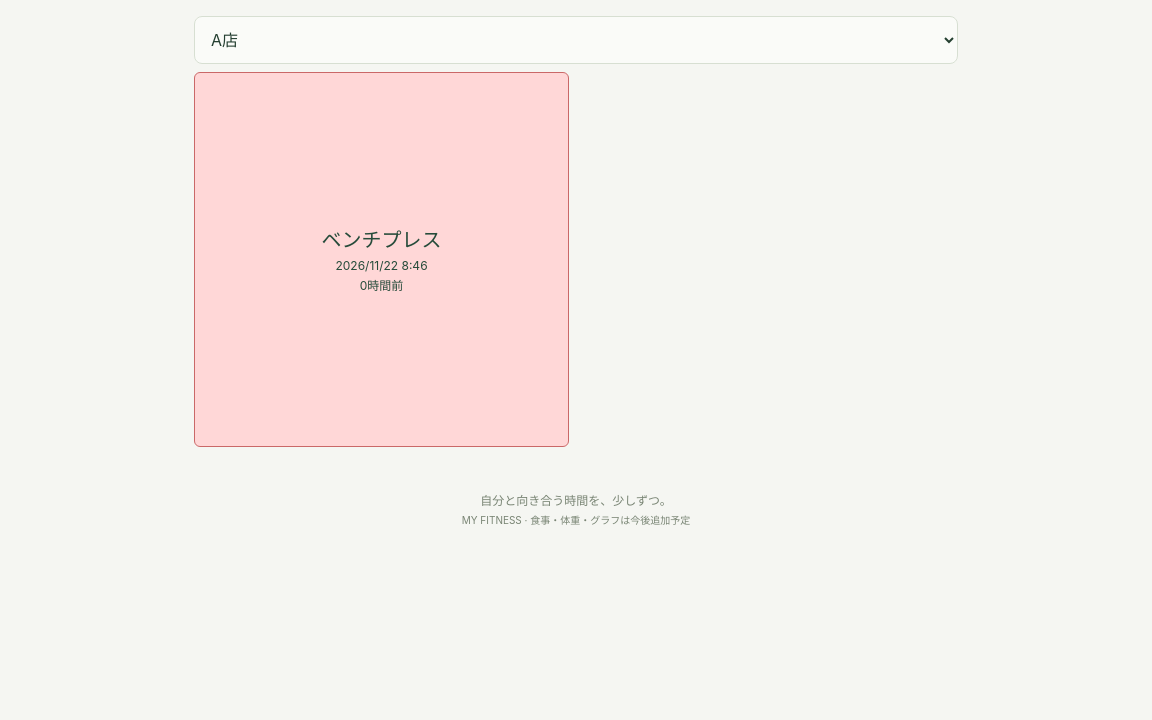
it: 店舗の選択と統合 › 画面で店舗を切り替え、A店・B店の記録を共通IDに保存する
Earlier steps of the test are not shown.
Later steps or results of the test are not shown.
Select "B店" in the dropdown named "店舗を選択" at (576, 40), box [194,16,958,64]
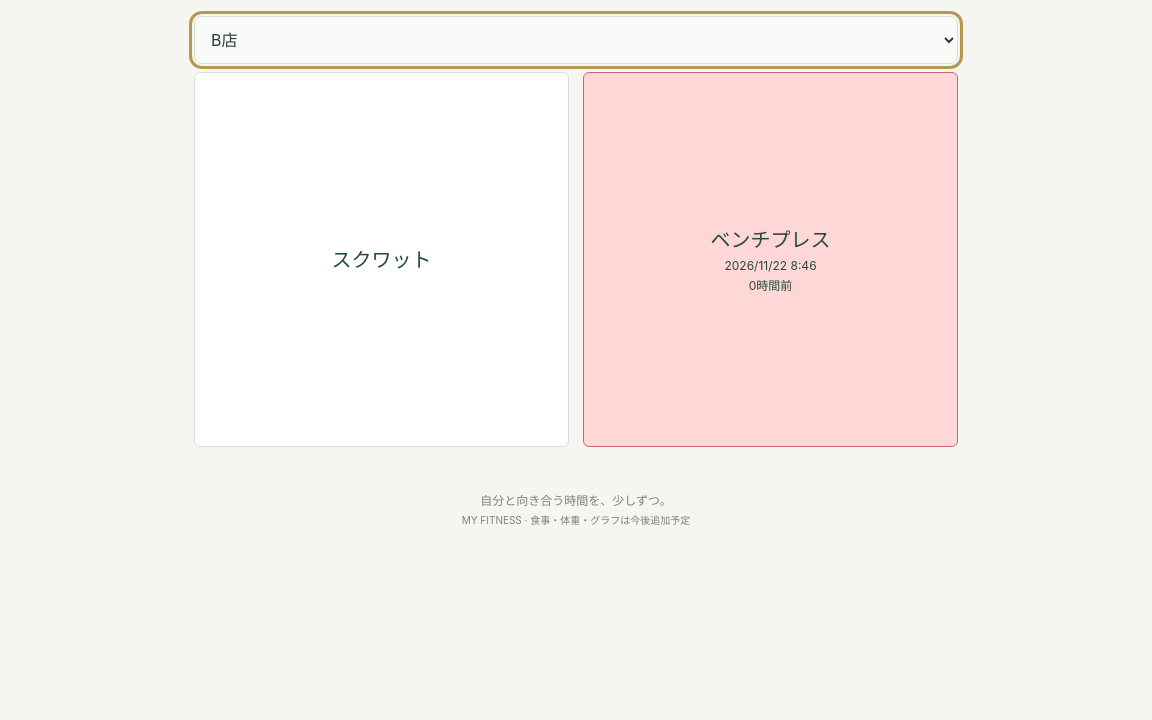
Expected: the label labelled "重量 (kg)" is not shown
Click the button "ベンチプレス 2026/11/22 8:460時間前" at (770, 260), box [583,72,958,447]
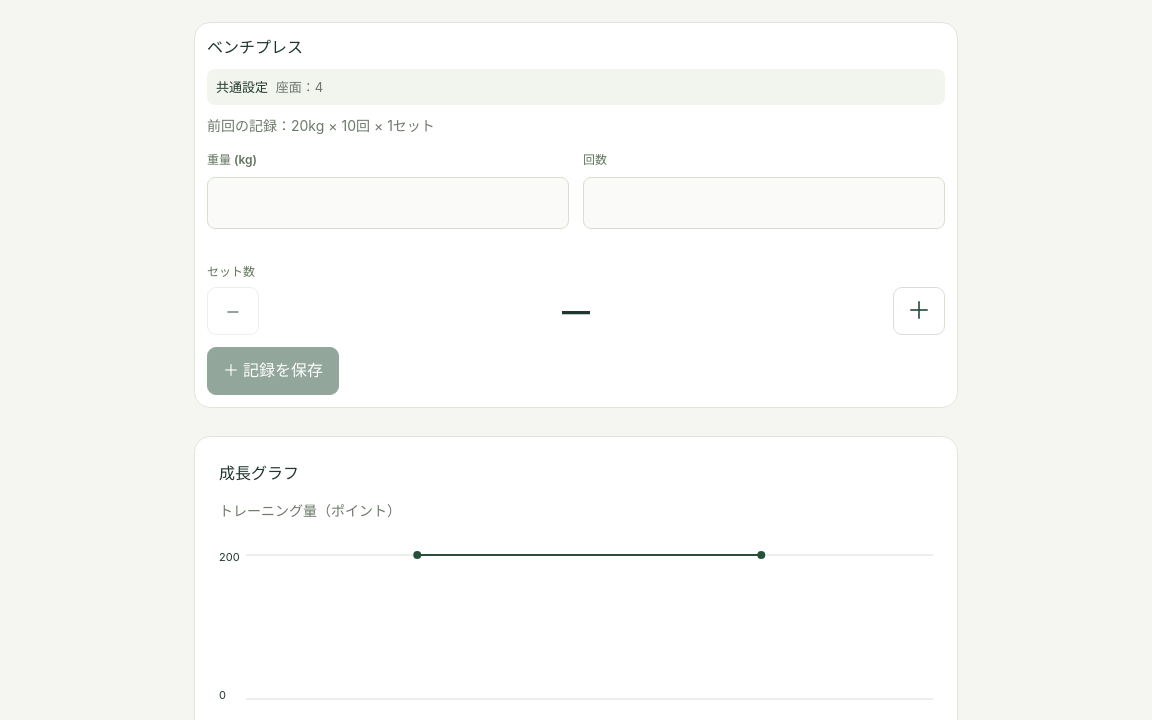
Expected: the number field labelled "重量 (kg)" is shown, [207,177,569,229]
